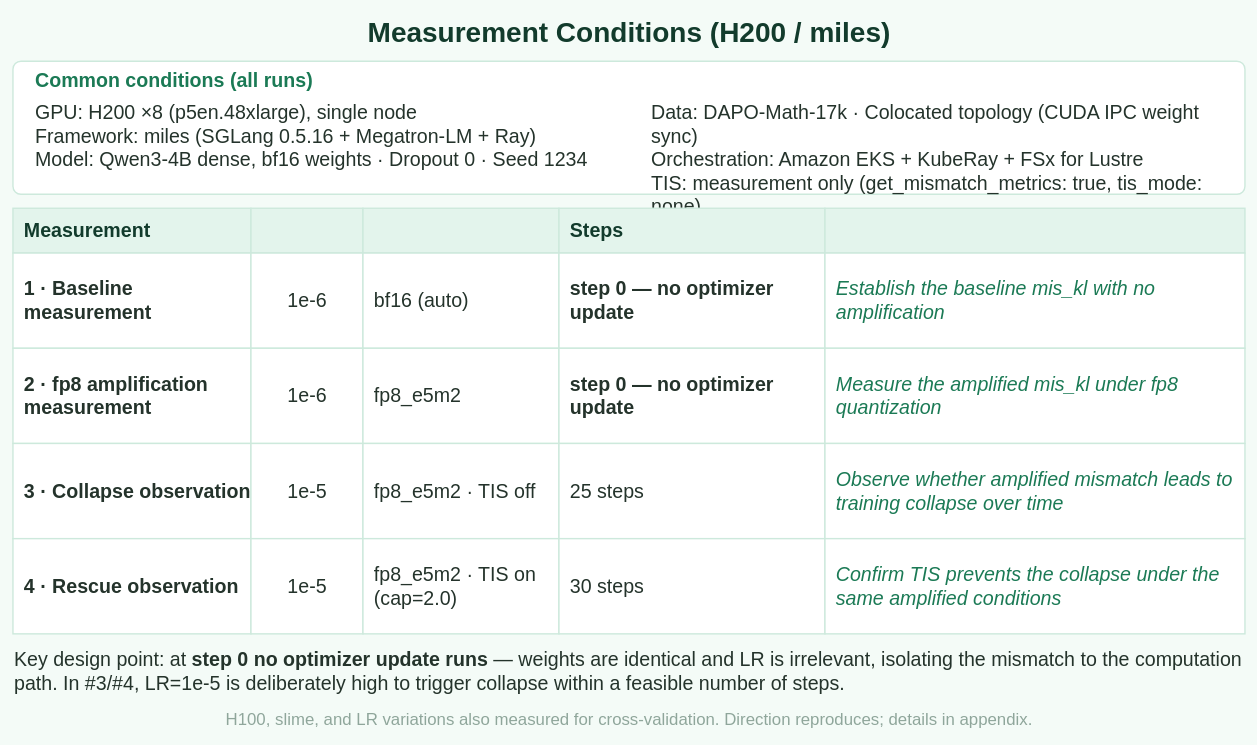
The diagram is 1257 pixels wide and 745 high, and some of its shapes have lost their labels. Each missing label, with the centre of its shape:
KV cache: the point at 460,230
LR: the point at 306,230
Purpose: the point at 1034,230
